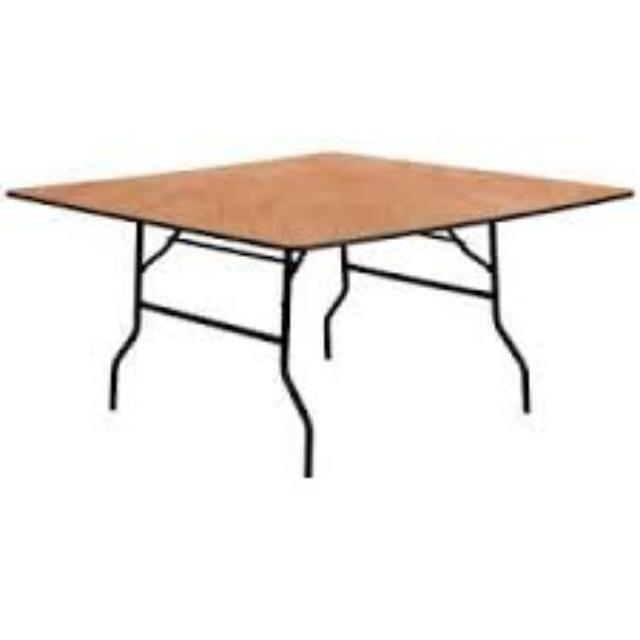obstacle: (9, 93, 588, 479)
